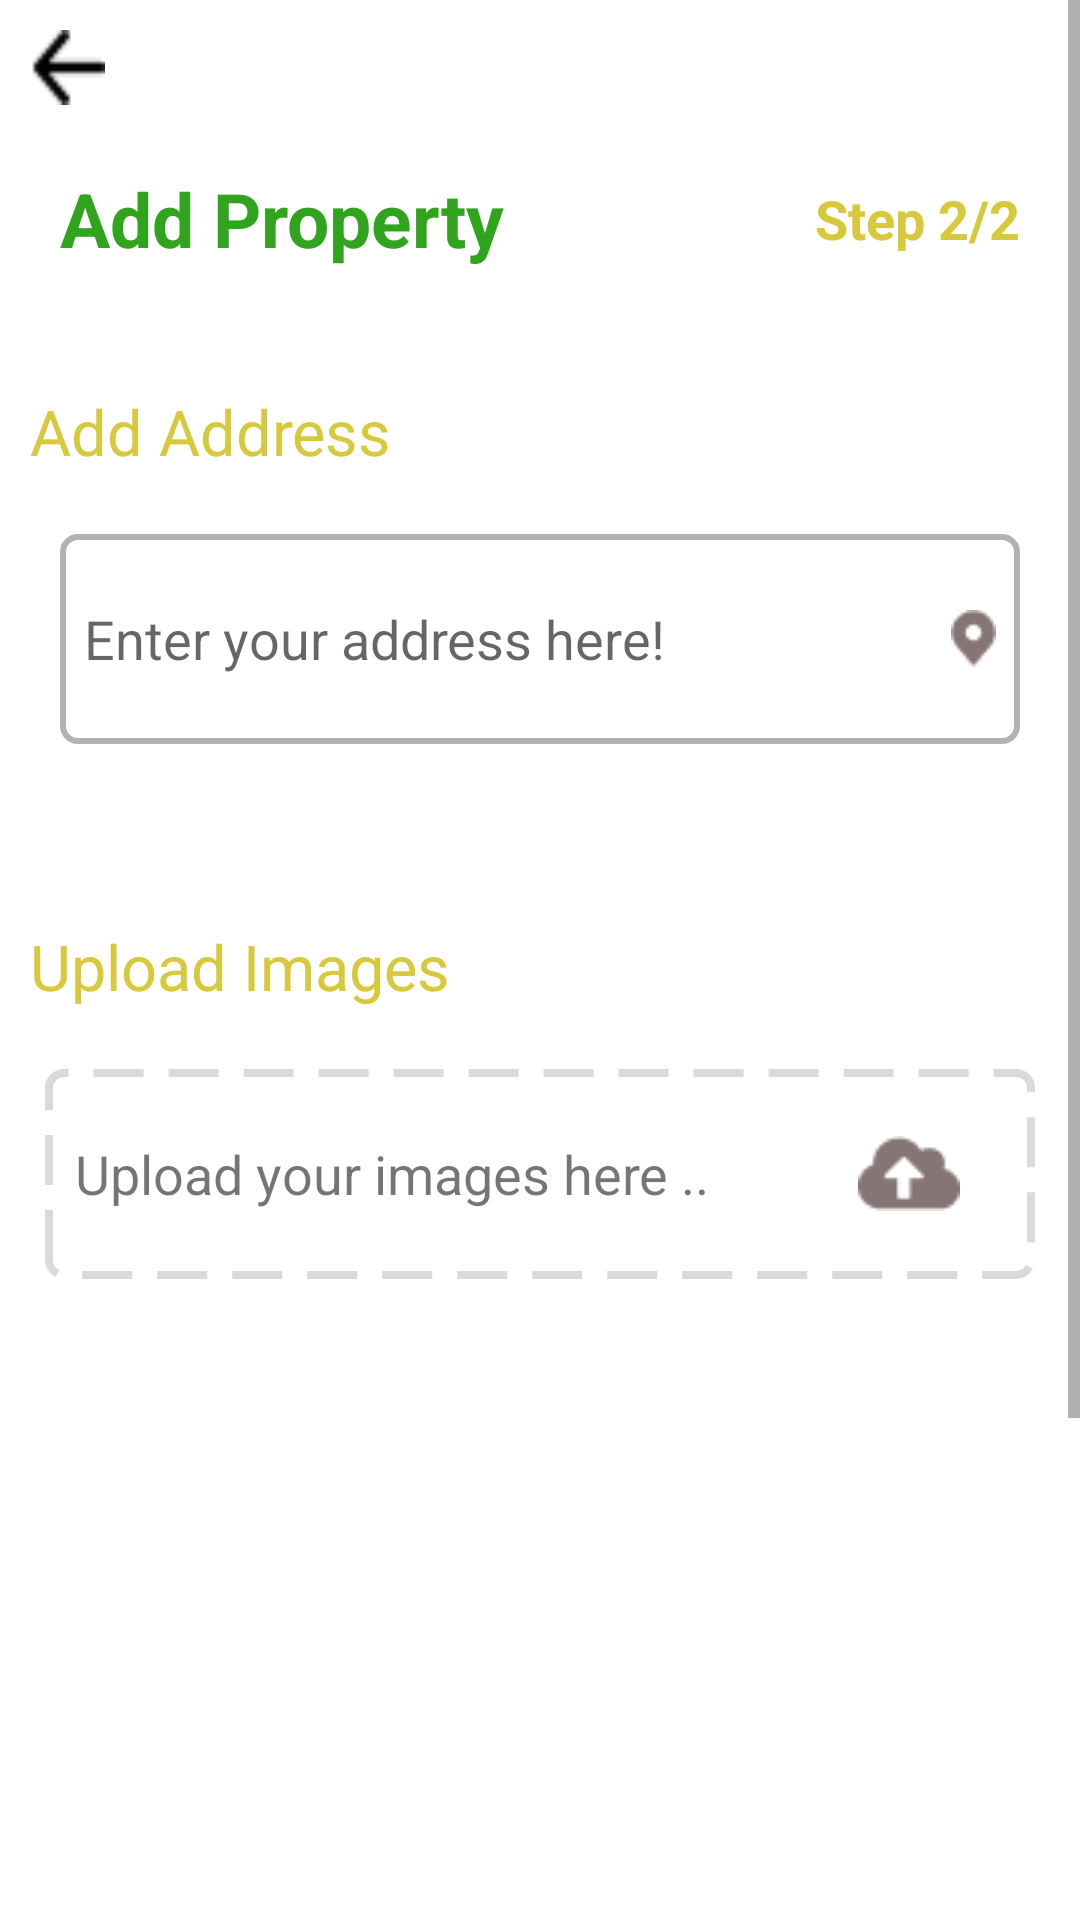

Where to tap for icons on this 1080px×1920px app screen, as (x=x, y=y):
back arrow: (x=68, y=67)
